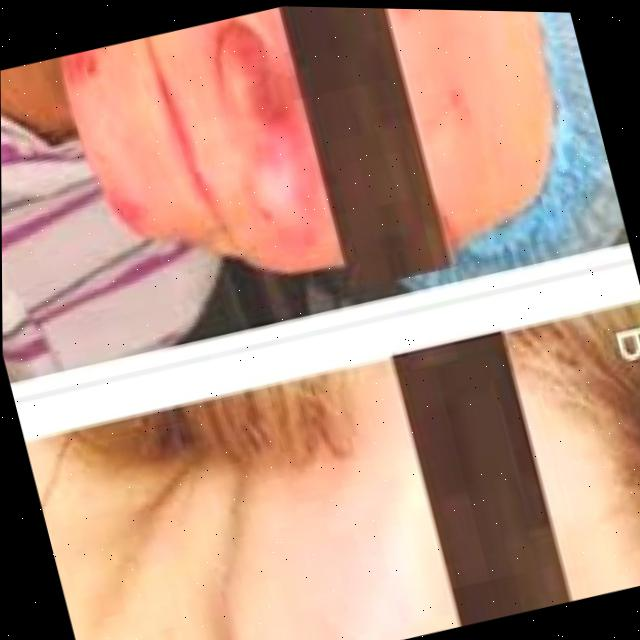Rosacea: (233, 56, 302, 132), (65, 45, 117, 96), (118, 200, 145, 220)
